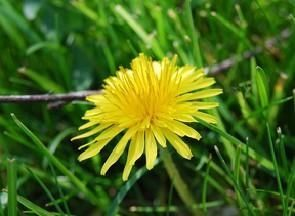dandelion: (73, 74, 214, 156)
